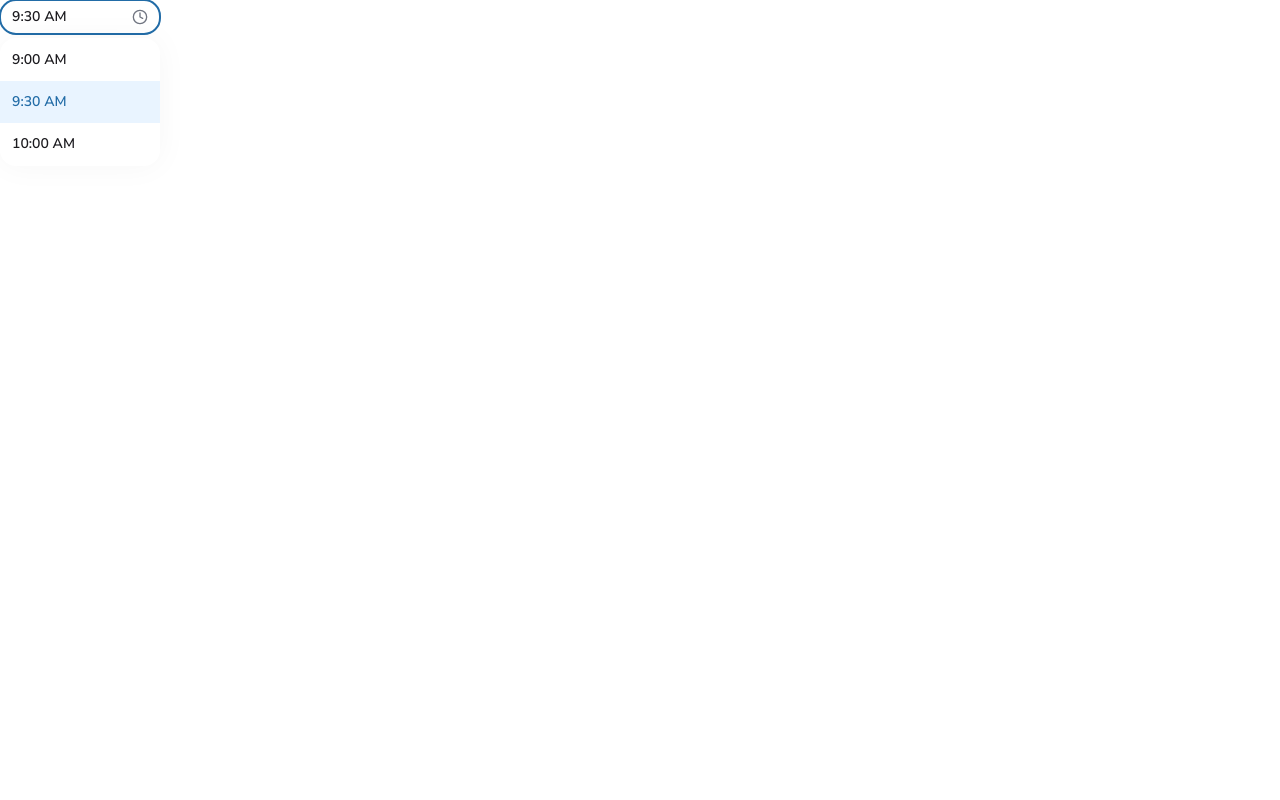
Scenario: TimePicker opening from the field › still closes on focus moving genuinely outside, committing the draft
(page scrolled)
Replace the text in the field named "Time" with "1" at [68, 17], box [12, 8, 124, 26]
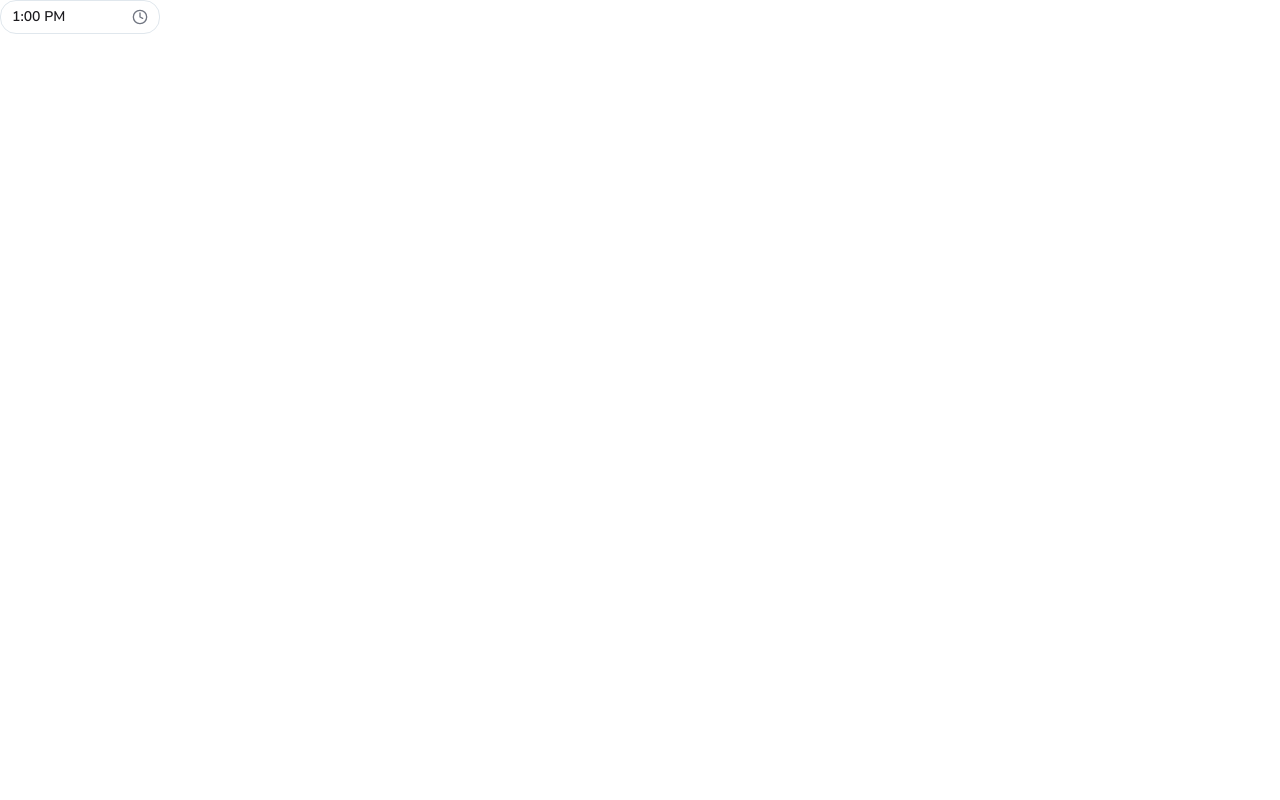
Result: the field named "Time" holds "1:00 PM" at [12, 8, 124, 26]
